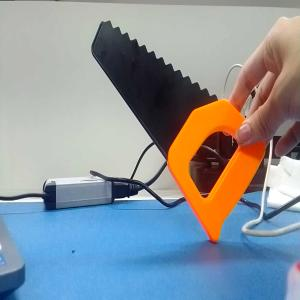serrote: (91, 20, 259, 244)
